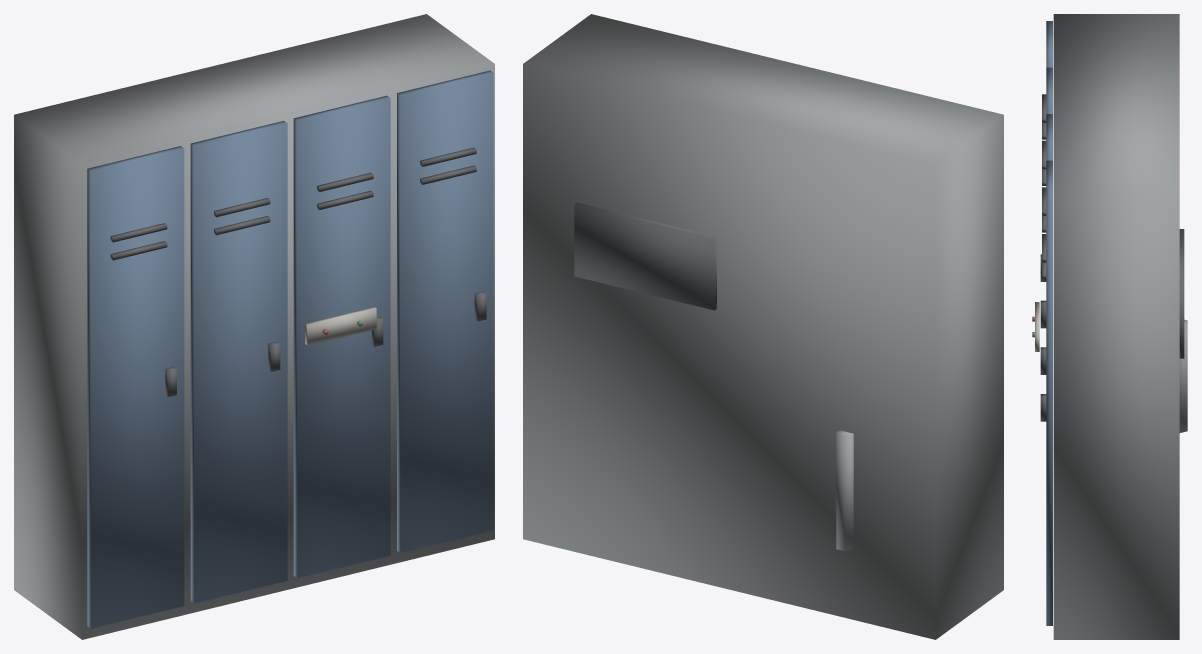
File: school_locker_bank__service.glb
3 renders of one model, left to right at view 1: azimuth 30°, elevation 25°; view 2: azimuth 150°, elevation 25°; view 3: azimuth 270°, elevation 25°, orthographic. The views are drawn at different scales.
Visible parts, largest first — view 1: world; view 2: world; view 3: world.
Boxes of the visible parts, left/top/right/bottom form: world: left=14, top=14, right=494, bottom=639; world: left=523, top=14, right=1003, bottom=639; world: left=1032, top=14, right=1187, bottom=639.
Size of the model in its own units: 1.68 by 1.85 by 0.5913.
